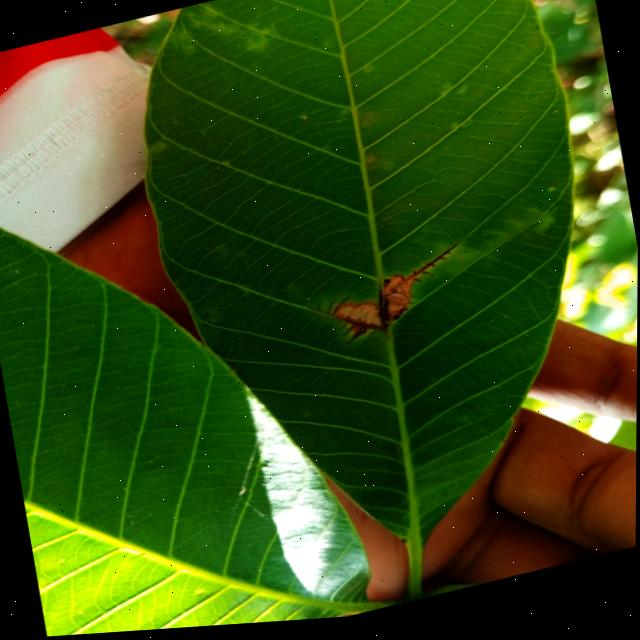Corynespora: (309, 293, 387, 356), (395, 245, 466, 292)
Leaf-Blight: (336, 301, 382, 339), (383, 278, 418, 324)
